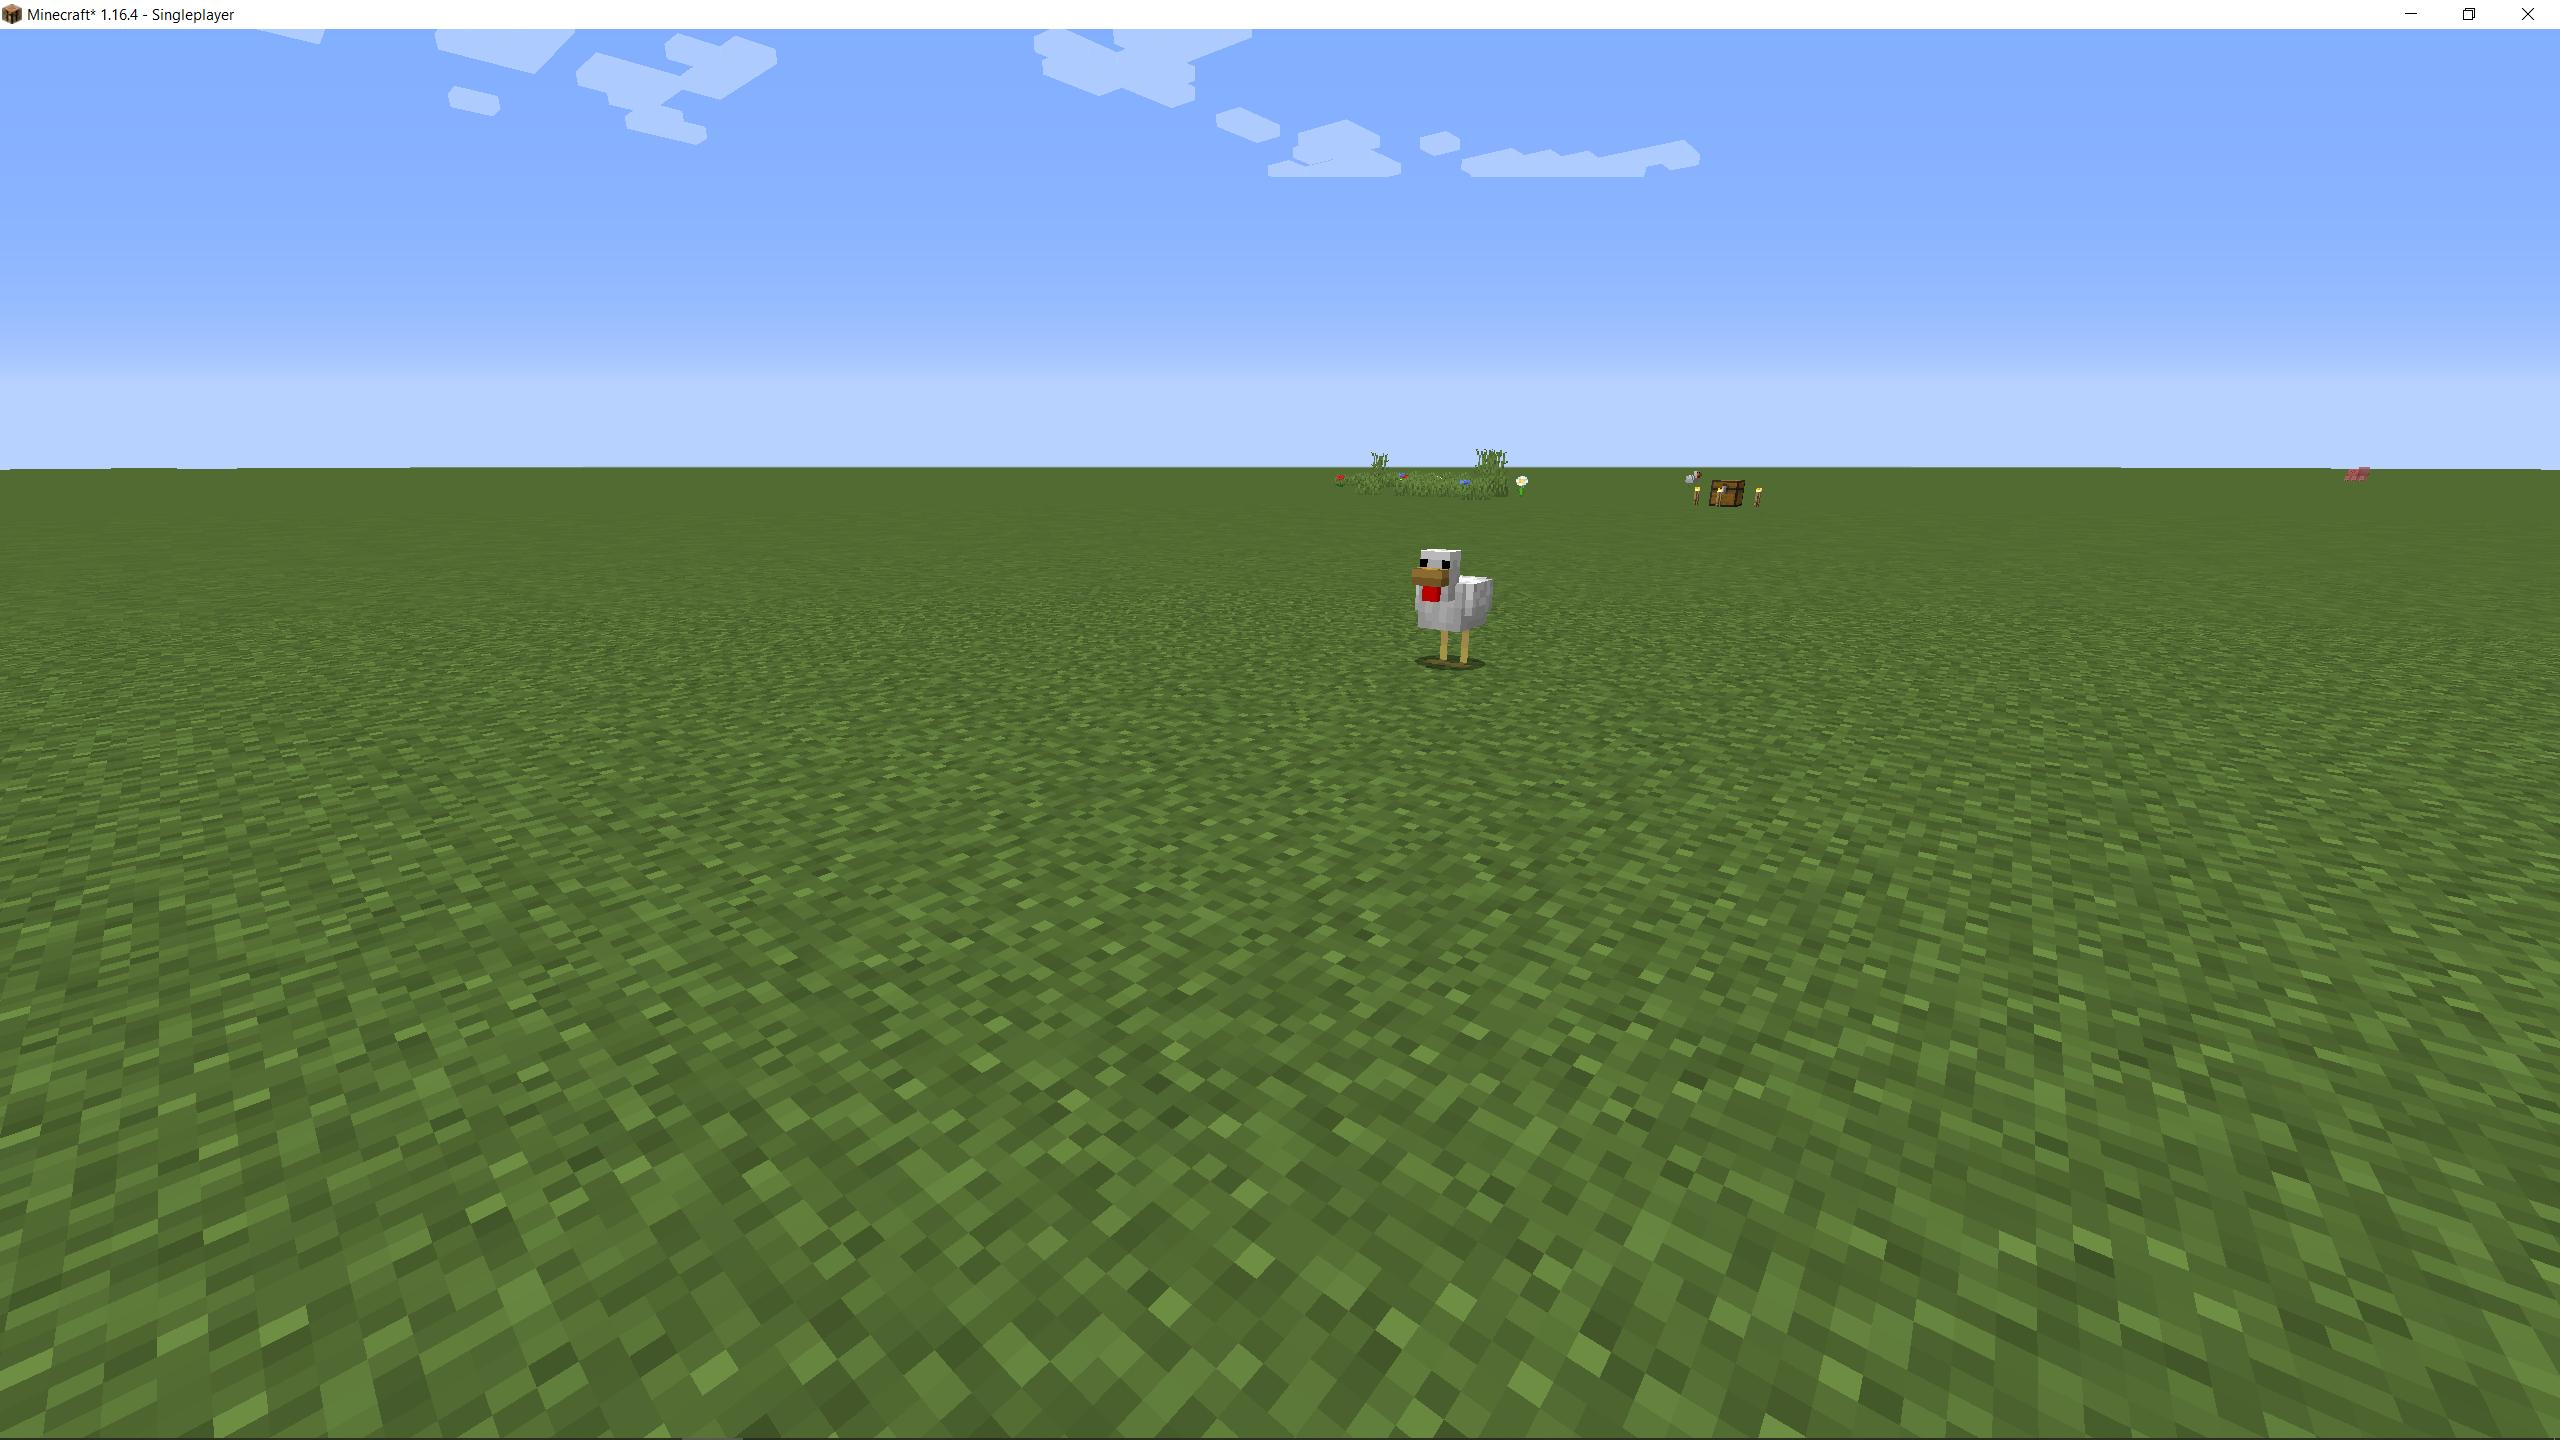chicken: (1407, 542, 1496, 684)
